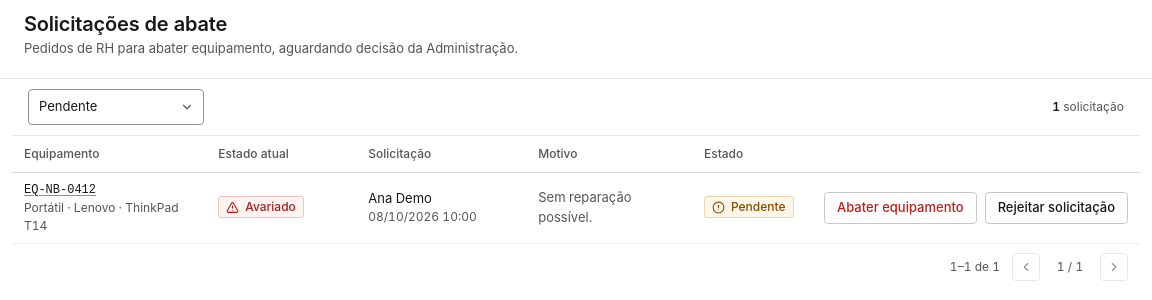
SolicitacoesAbatePage › shows the decision of decided requests
Expected: the table is shown, [12,136,1140,242]
Select "Rejeitado" in the dropdown named "Filtrar por estado" at [116, 107], box [28,89,204,125]
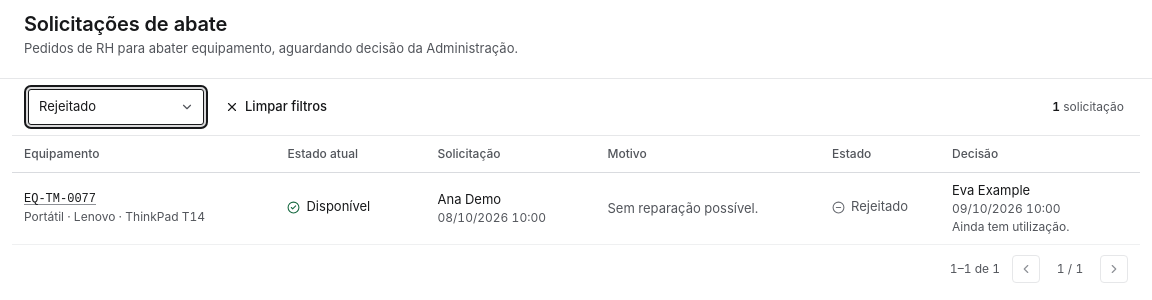
Expected: the text "Rejeitado" is shown, [832,197,908,217]
Expected: the text "Eva Example" is shown, [952,182,1030,198]
Expected: the text "Ainda tem utilização." is shown, [952,219,1069,234]
